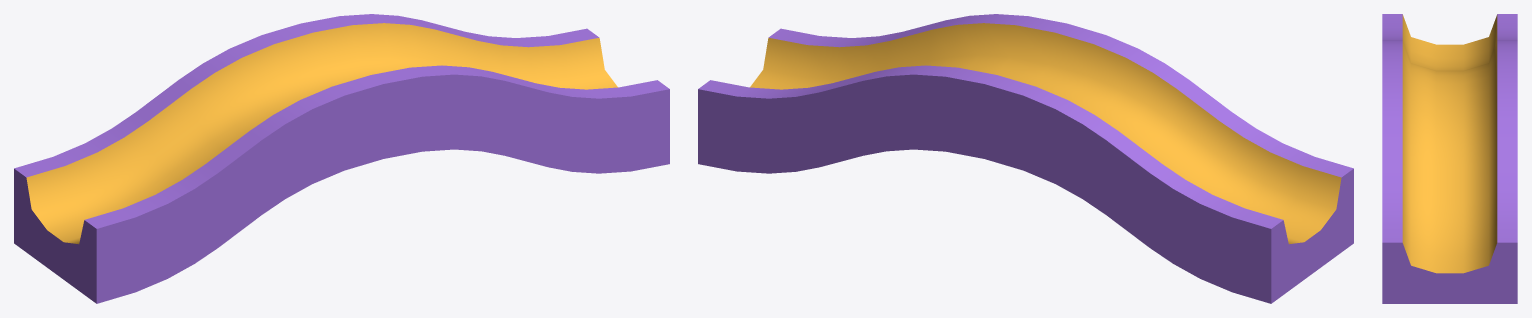
The model's file is bump-b-col.glb.
3 renders of one model, left to right at view 1: azimuth 30°, elevation 25°; view 2: azimuth 150°, elevation 25°; view 3: azimuth 270°, elevation 25°, orthographic. The views are drawn at different scales.
Parts seen in each view (by area): view 1: bump-b-col; view 2: bump-b-col; view 3: bump-b-col.
Part boxes in pixels (x1,y1,x2,y2): bump-b-col: (14, 14, 669, 303); bump-b-col: (698, 14, 1353, 303); bump-b-col: (1382, 14, 1517, 303).
Bounding box in the file's own units: 4 × 1 × 1.
1 material, 1 textured.
